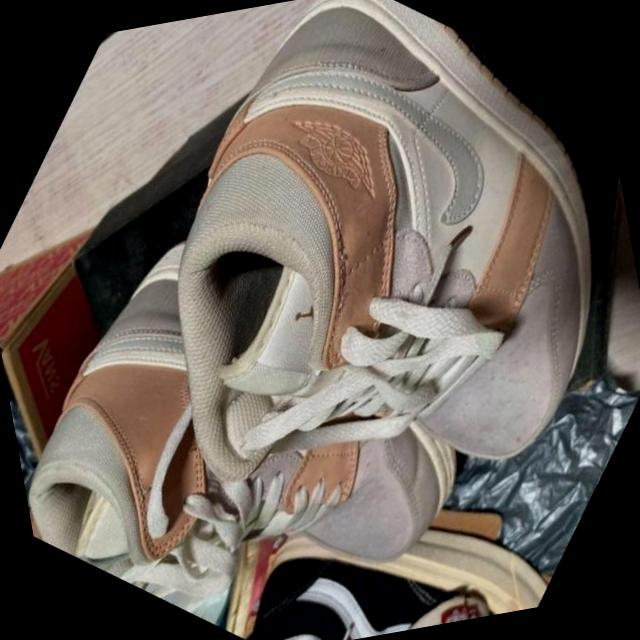nike_fake_jordan: (15, 0, 640, 640), (0, 160, 540, 640)
